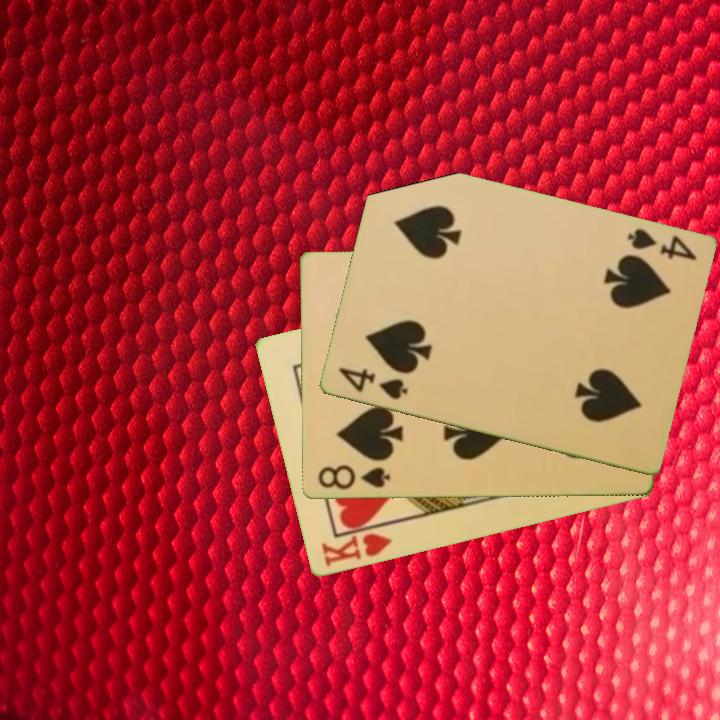4s: (334, 364, 411, 403), (623, 225, 700, 264)
8s: (314, 462, 393, 493)
Kh: (317, 521, 396, 570)
